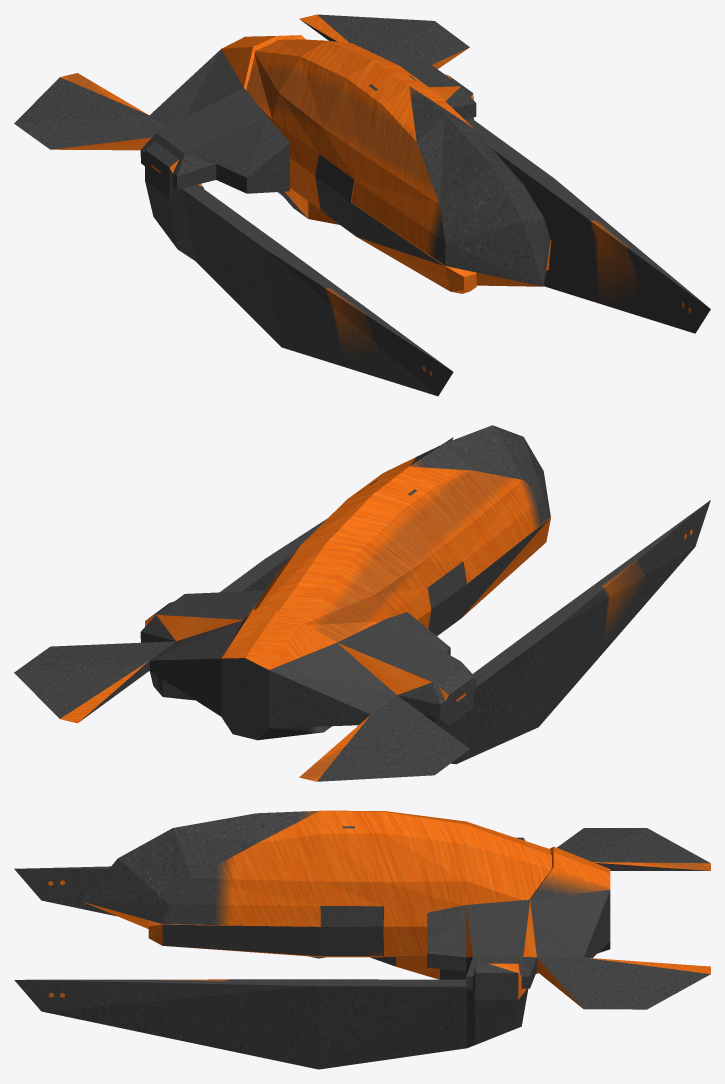
The picture shows the model from 3 angles, top to bottom: view 1: azimuth 30°, elevation 25°; view 2: azimuth 150°, elevation 25°; view 3: azimuth 270°, elevation 25°; orthographic projection. The views are drawn at different scales.
Parts seen in each view (by area): view 1: turret_x_1; view 2: turret_x_1; view 3: turret_x_1.
Part boxes in pixels (x1=…): turret_x_1: x1=14, y1=14, x2=710, y2=396; turret_x_1: x1=14, y1=425, x2=710, y2=781; turret_x_1: x1=14, y1=810, x2=710, y2=1069.
Size of the model in its own units: 2.92 by 1.52 by 4.73.
